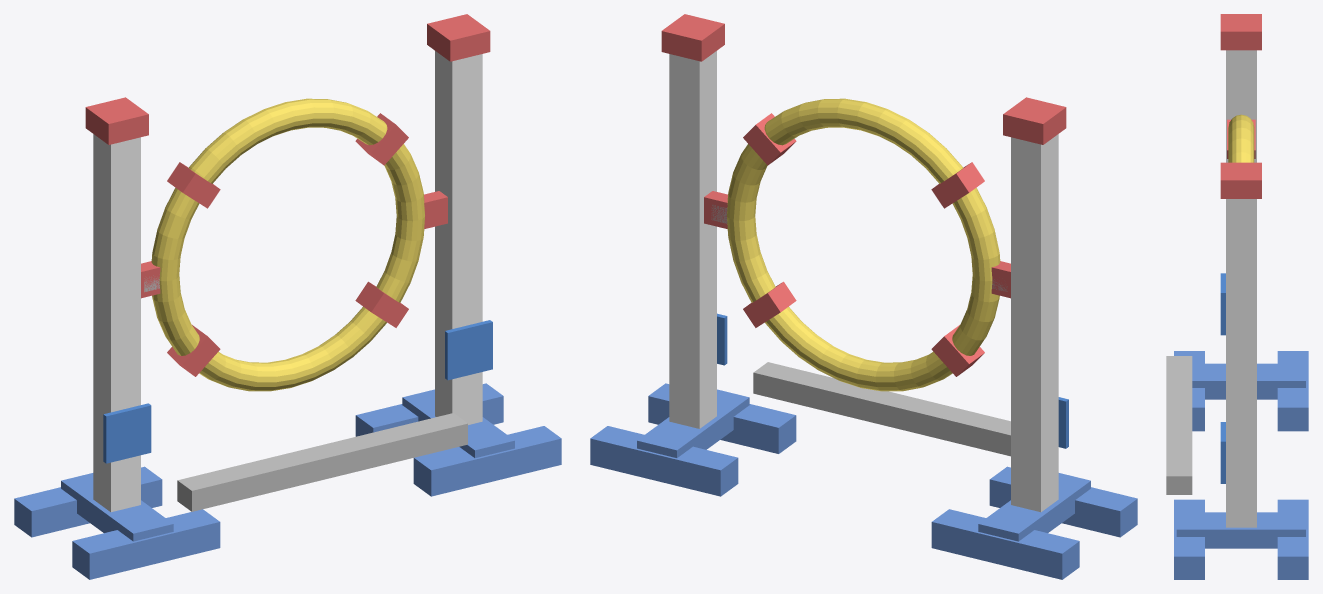
The model's file is dog_agility_hoop_2.fbx.
The picture shows the model from 3 angles, left to right: view 1: azimuth 30°, elevation 25°; view 2: azimuth 150°, elevation 25°; view 3: azimuth 270°, elevation 25°; orthographic projection. The views are drawn at different scales.
Parts seen in each view (by area): view 1: main_hoop_ring, left_upright, right_upright, rear_stability_bar, left_base_foot_back, right_base_foot_back, left_base_foot_front, left_base_cross, left_paw_marker, right_paw_marker, left_cap, right_cap (+7 smaller); view 2: main_hoop_ring, left_upright, right_upright, rear_stability_bar, left_base_foot_front, right_base_foot_front, right_base_foot_back, left_base_foot_back, left_base_cross, right_base_cross, left_cap, right_cap (+5 smaller); view 3: right_upright, rear_stability_bar, right_base_cross, left_base_cross, left_upright, left_base_foot_front, right_base_foot_front, right_base_foot_back, left_cap, right_cap, main_hoop_ring, left_base_foot_back (+2 smaller).
Part boxes in pixels (box(x1,y1,x2,y2)): main_hoop_ring: box(151, 98, 424, 391); left_upright: box(93, 134, 140, 512); right_upright: box(435, 51, 482, 424); rear_stability_bar: box(177, 413, 467, 511); left_base_foot_back: box(72, 509, 220, 579); right_base_foot_back: box(413, 426, 561, 496); left_base_foot_front: box(14, 466, 162, 537); left_base_cross: box(61, 473, 173, 541); left_paw_marker: box(103, 403, 151, 463); right_paw_marker: box(445, 320, 492, 380); left_cap: box(85, 97, 148, 144); right_cap: box(427, 14, 490, 61); main_hoop_ring: box(727, 98, 1000, 391); left_upright: box(1011, 134, 1058, 512); right_upright: box(669, 51, 716, 428); rear_stability_bar: box(753, 362, 1010, 456); left_base_foot_front: box(931, 509, 1079, 579); right_base_foot_front: box(590, 426, 738, 496); right_base_foot_back: box(648, 383, 796, 453); left_base_foot_back: box(989, 466, 1137, 537); left_base_cross: box(978, 473, 1090, 541); right_base_cross: box(637, 389, 749, 457); left_cap: box(1003, 97, 1066, 144); right_cap: box(661, 14, 724, 61); right_upright: box(1226, 199, 1256, 527); rear_stability_bar: box(1166, 356, 1192, 494); right_base_cross: box(1176, 512, 1305, 548); left_base_cross: box(1192, 363, 1305, 399); left_upright: box(1226, 50, 1256, 162); left_base_foot_front: box(1277, 351, 1308, 431); right_base_foot_front: box(1277, 499, 1308, 579); right_base_foot_back: box(1174, 499, 1204, 579); left_cap: box(1220, 14, 1261, 50); right_cap: box(1220, 162, 1261, 198); main_hoop_ring: box(1228, 114, 1254, 162); left_base_foot_back: box(1174, 351, 1204, 431).
Bounding box in the file's own units: 188 × 162 × 55.
